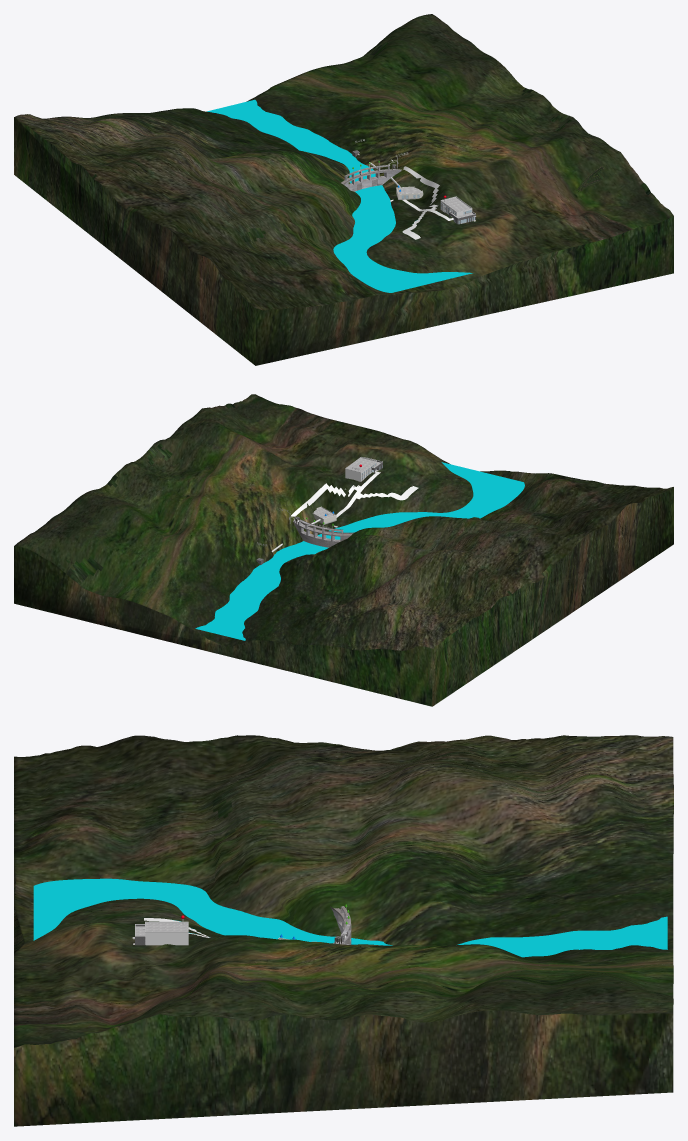
3 views of the same model, one above another, from view 1: azimuth 30°, elevation 25°; view 2: azimuth 150°, elevation 25°; view 3: azimuth 270°, elevation 25° (orthographic). The views are drawn at different scales.
Visible parts, largest first — view 1: Landscape.001, Landscape_plane.001, 立方体.001, 办公楼03; view 2: Landscape.001, Landscape_plane.001, 立方体.001, 办公楼03; view 3: Landscape.001, Landscape_plane.001, 办公楼03.
Part boxes in pixels (x1,y1,x2,y2): Landscape.001: [14, 14, 673, 365]; Landscape_plane.001: [207, 99, 472, 292]; 立方体.001: [341, 169, 400, 191]; 办公楼03: [440, 196, 476, 224]; Landscape.001: [14, 394, 673, 706]; Landscape_plane.001: [195, 462, 524, 640]; 立方体.001: [293, 520, 352, 547]; 办公楼03: [345, 457, 382, 481]; Landscape.001: [14, 735, 673, 1126]; Landscape_plane.001: [33, 878, 667, 957]; 办公楼03: [132, 921, 188, 945].
Size of the model in its own units: 49.7 by 10.8 by 49.73.
Materials: 40 (7 with a texture image).
